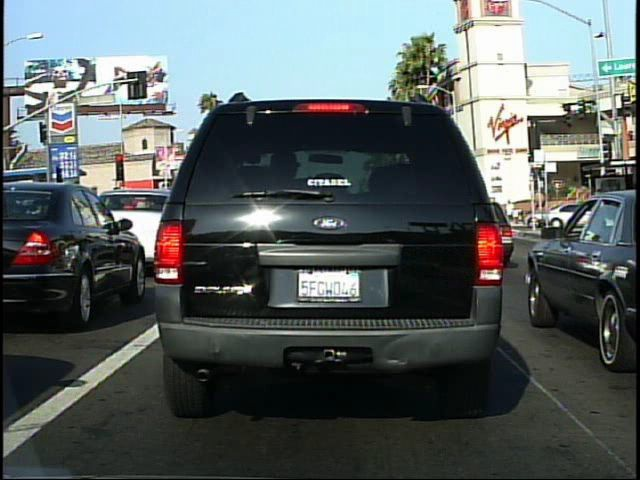person: (591, 184, 614, 243), (504, 198, 517, 226)
